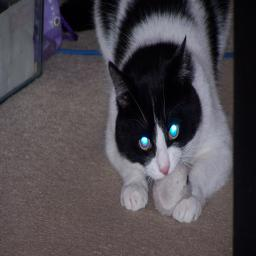catnose: (158, 164, 170, 176)
